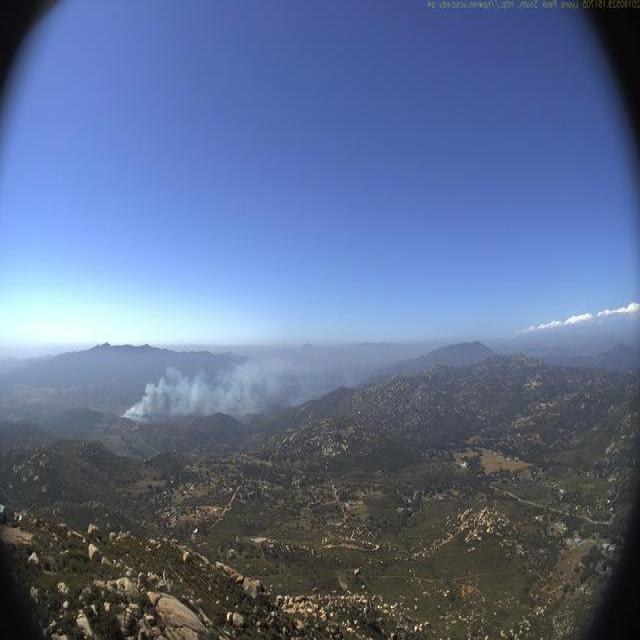Smoke: (120, 344, 342, 424)
